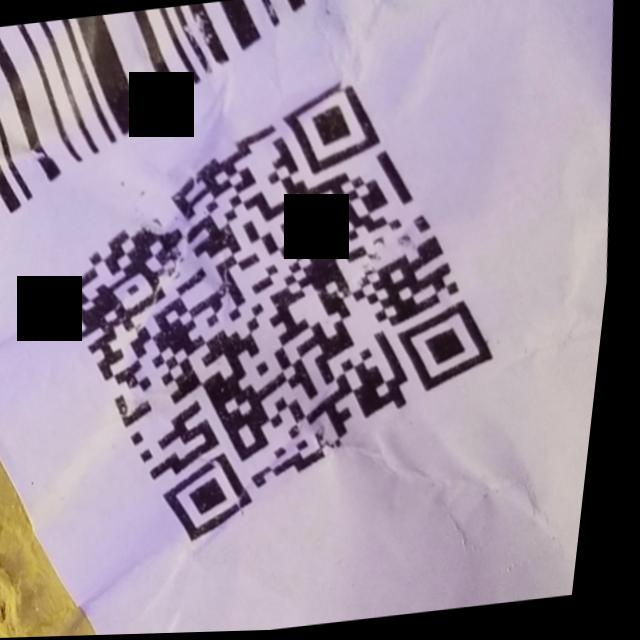QR_CODE: (11, 57, 555, 567)
